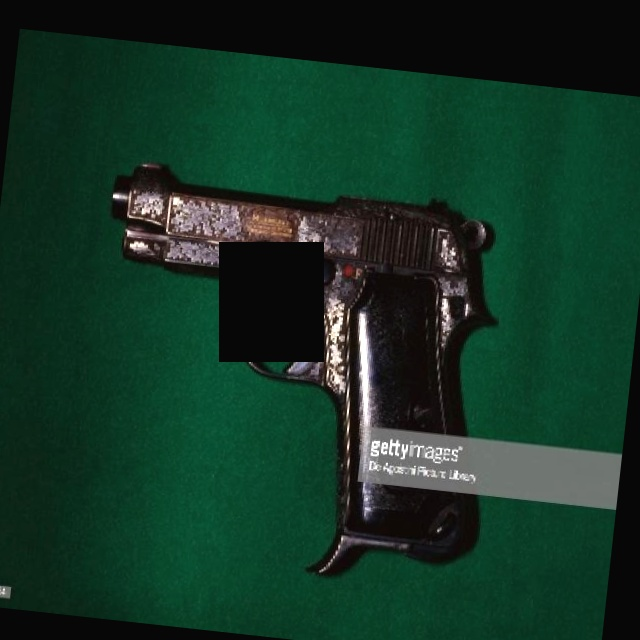gun: (66, 152, 520, 576)
